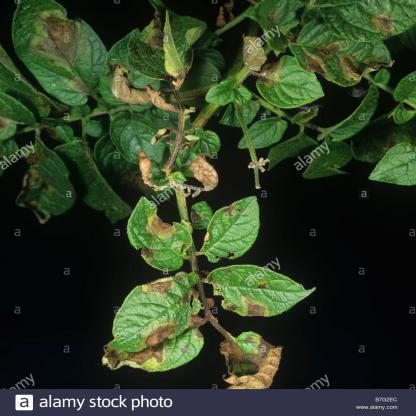potato leaf late blight: (99, 274, 206, 378), (12, 0, 113, 107), (289, 13, 393, 86), (122, 199, 196, 273), (206, 269, 319, 313), (199, 194, 261, 265), (211, 329, 284, 388), (252, 53, 324, 109)
